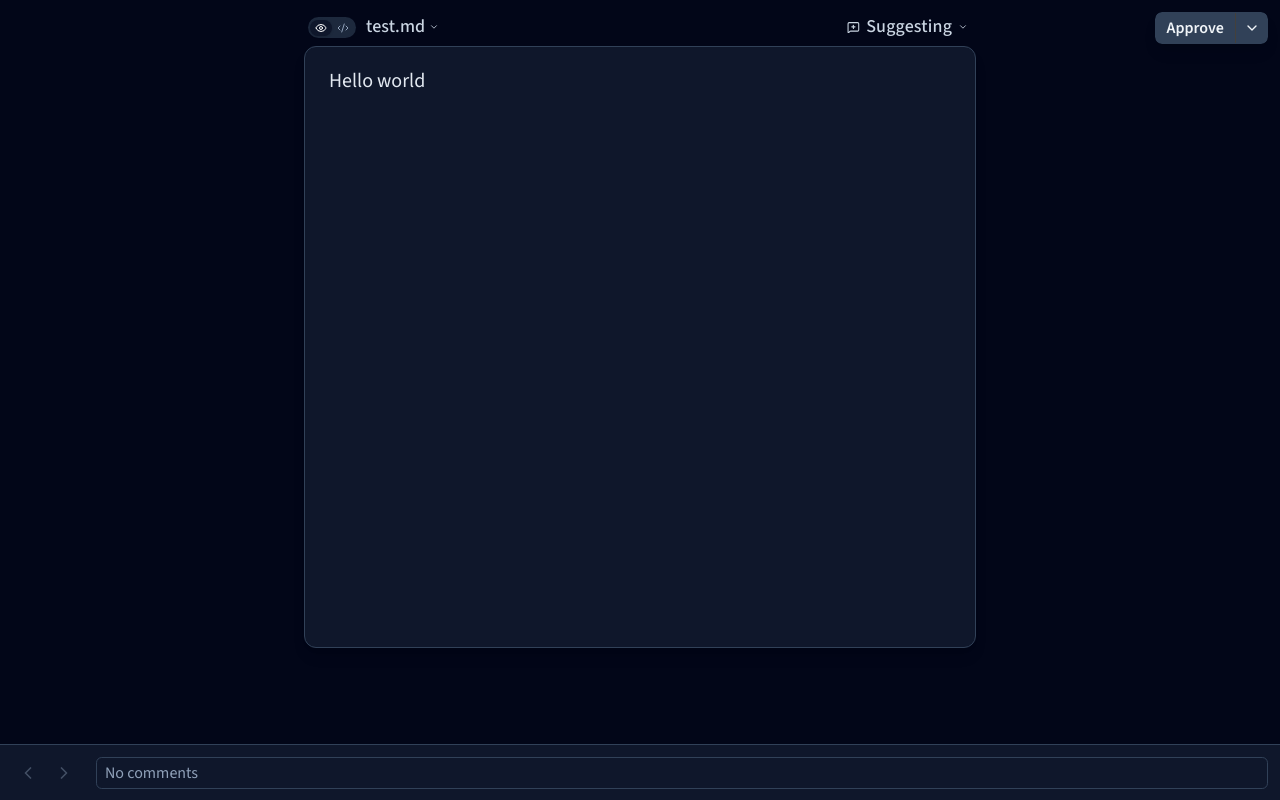
review handoff watcher affordance › shows visible feedback when the watcher disappears before handoff delivery
Click the button "Approve". click: click(1195, 28)
box: top-left (1155, 12), bottom-right (1236, 44)
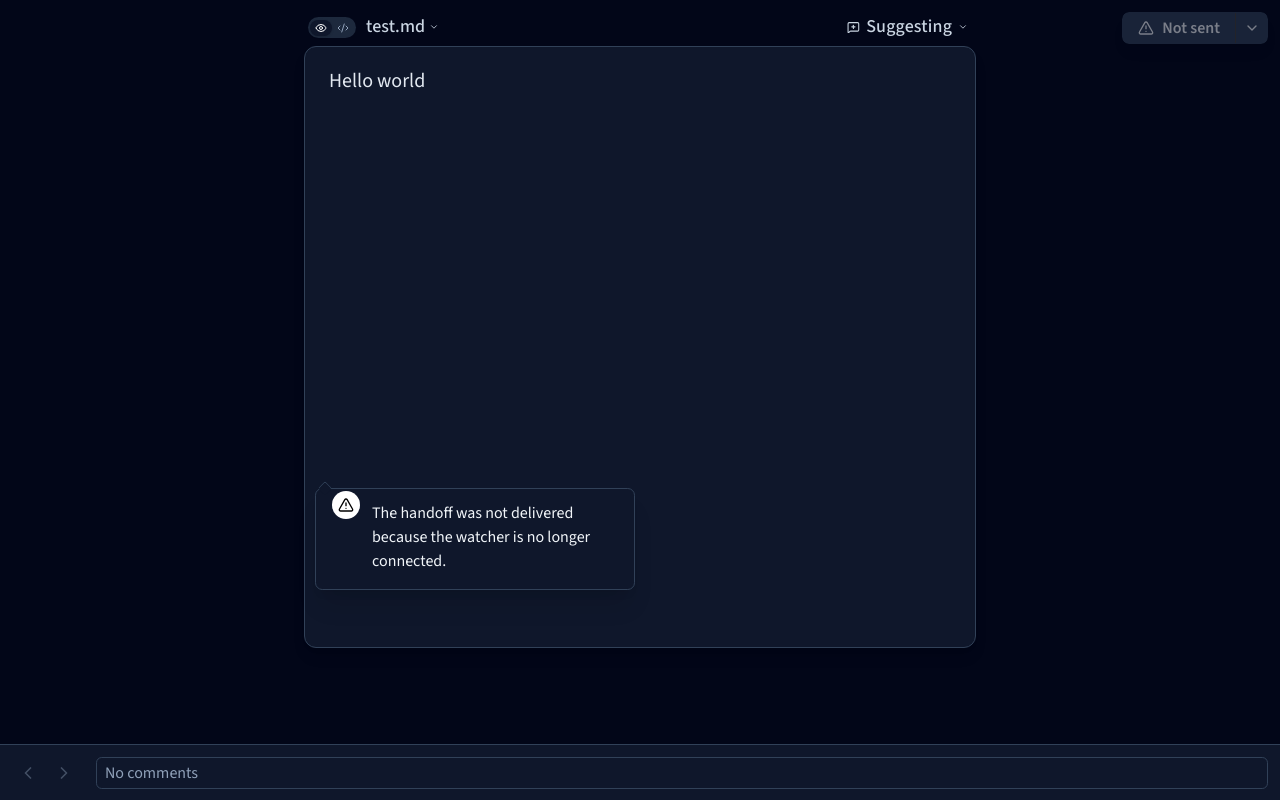
Result: the text "Not sent" is shown at top-left (1122, 12), bottom-right (1236, 44)
Result: the text "Approve" is gone
